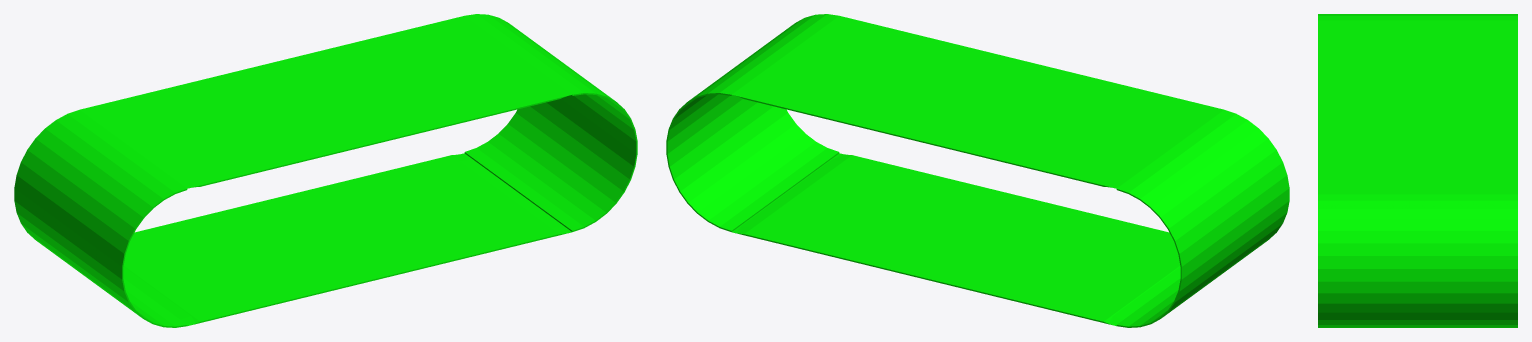
Rendered from crawler_g.dae.
3 views of the same model, side by side, from view 1: azimuth 30°, elevation 25°; view 2: azimuth 150°, elevation 25°; view 3: azimuth 270°, elevation 25° (orthographic). The views are drawn at different scales.
Parts seen in each view (by area): view 1: Crawler; view 2: Crawler; view 3: Crawler.
Boxes of the visible parts, x1=… form: Crawler: x1=14, y1=14, x2=637, y2=327; Crawler: x1=666, y1=14, x2=1289, y2=327; Crawler: x1=1318, y1=14, x2=1517, y2=327.
Size of the model in its own units: 0.4 by 0.145 by 0.102.
